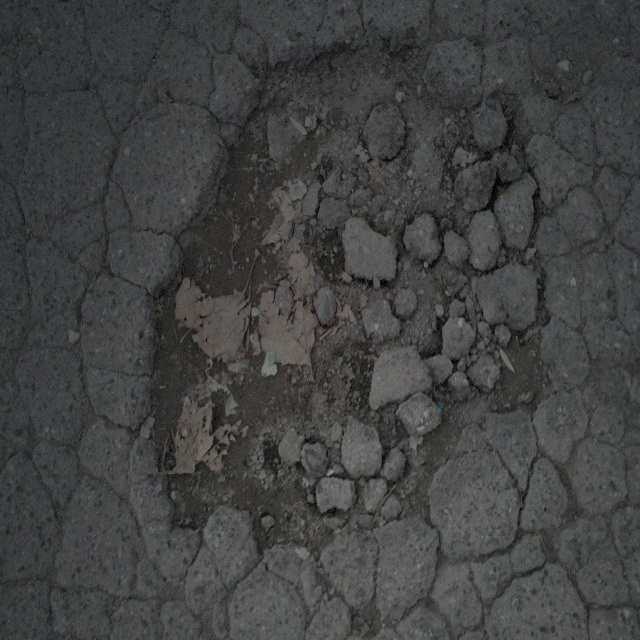pothole: (142, 24, 550, 561)
